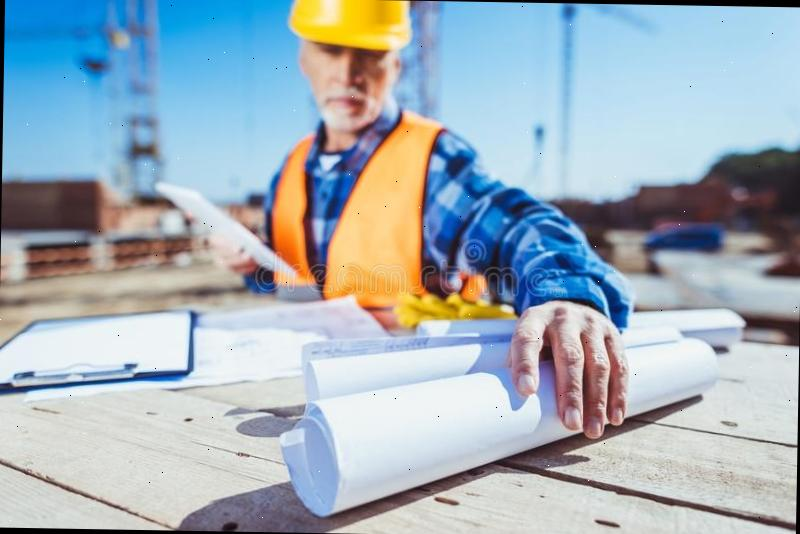helmet: (287, 0, 416, 53)
wear: (261, 124, 464, 314)
